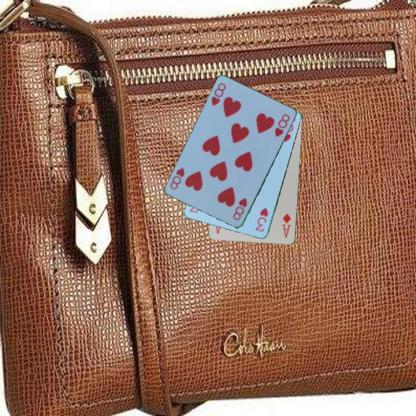3h: (253, 205, 270, 234)
8h: (230, 195, 249, 222), (209, 80, 227, 108)
Ad: (280, 211, 292, 238)
